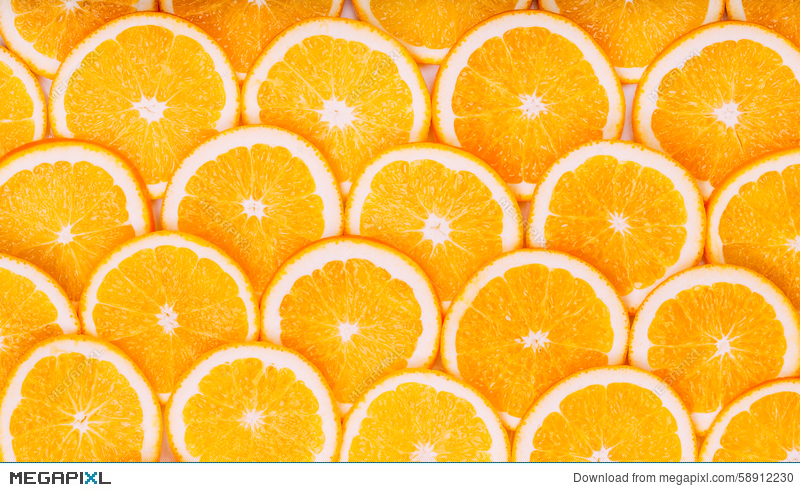Orange: (434, 240, 631, 436), (517, 130, 718, 317), (244, 240, 452, 398), (87, 230, 261, 394), (157, 133, 357, 249)
